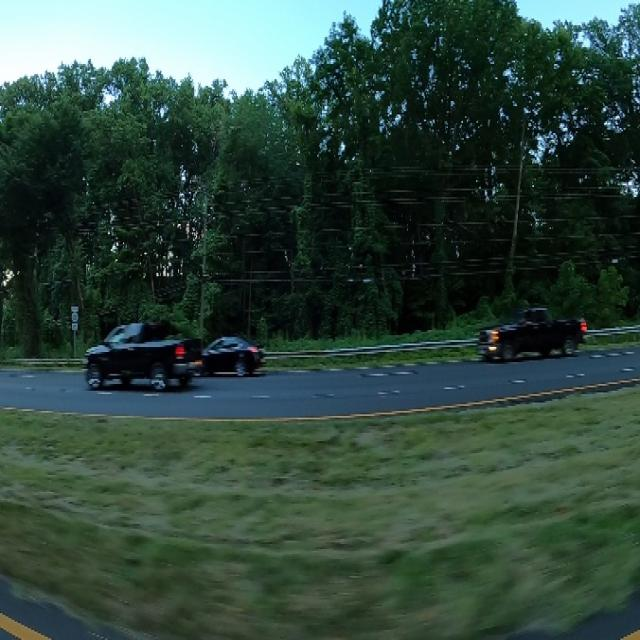car: (78, 311, 204, 401), (474, 292, 592, 371), (201, 329, 262, 381)
